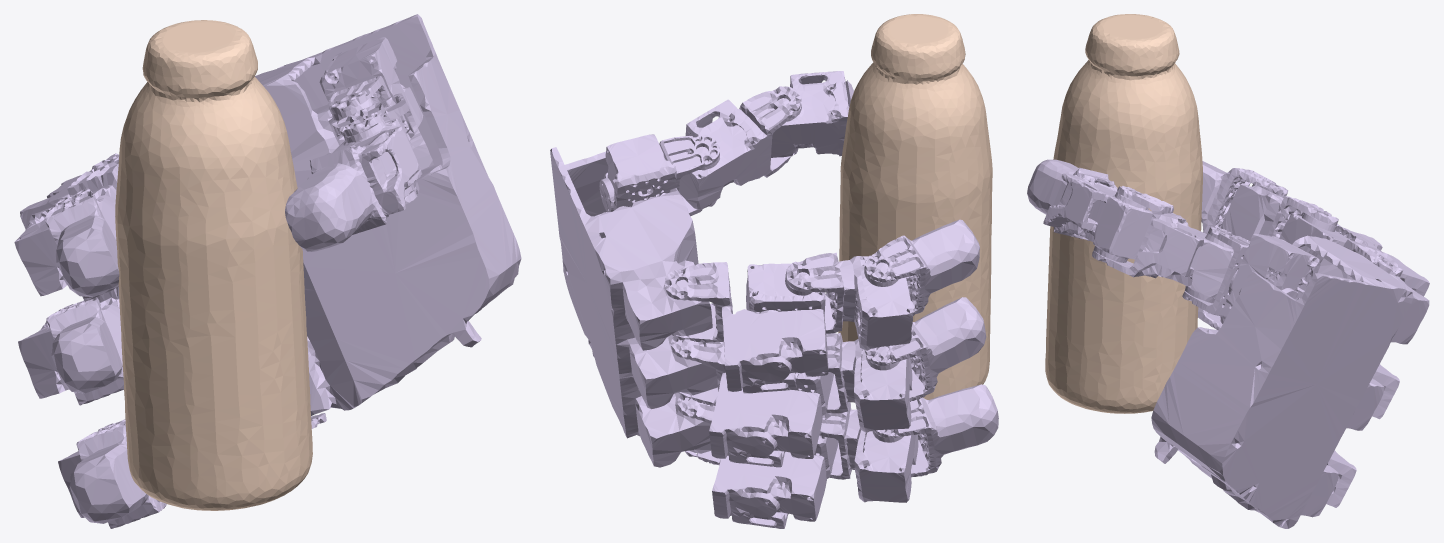
3 views of the same model, side by side, from view 1: azimuth 30°, elevation 25°; view 2: azimuth 150°, elevation 25°; view 3: azimuth 270°, elevation 25° (orthographic). The views are drawn at different scales.
Visible parts, largest first — view 1: LEAP_hand, world; view 2: LEAP_hand, world; view 3: LEAP_hand, world.
Part boxes in pixels (x1,y1,x2,y2): LEAP_hand: (14,14,521,528); world: (115,20,312,510); LEAP_hand: (550,71,998,528); world: (838,14,992,399); LEAP_hand: (1027,159,1429,528); world: (1045,14,1202,413).
Bounding box in the file's own units: 0.2071 × 0.2233 × 0.1823.
